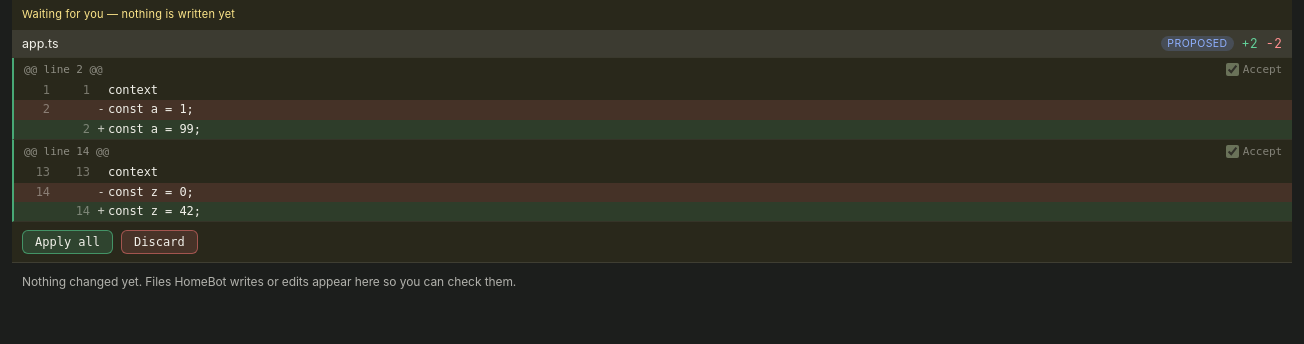
Test: discarding sends a reject and says the file was left alone
Click the button "Discard". click: (159, 242)
box: left=121, top=230, right=198, bottom=254
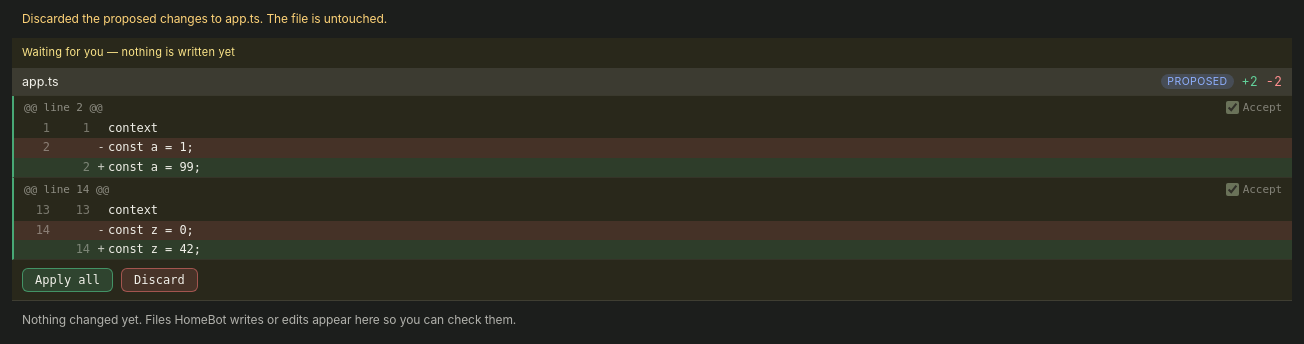
Check: the message shows "The file is untouched", box left=22, top=11, right=387, bottom=26
